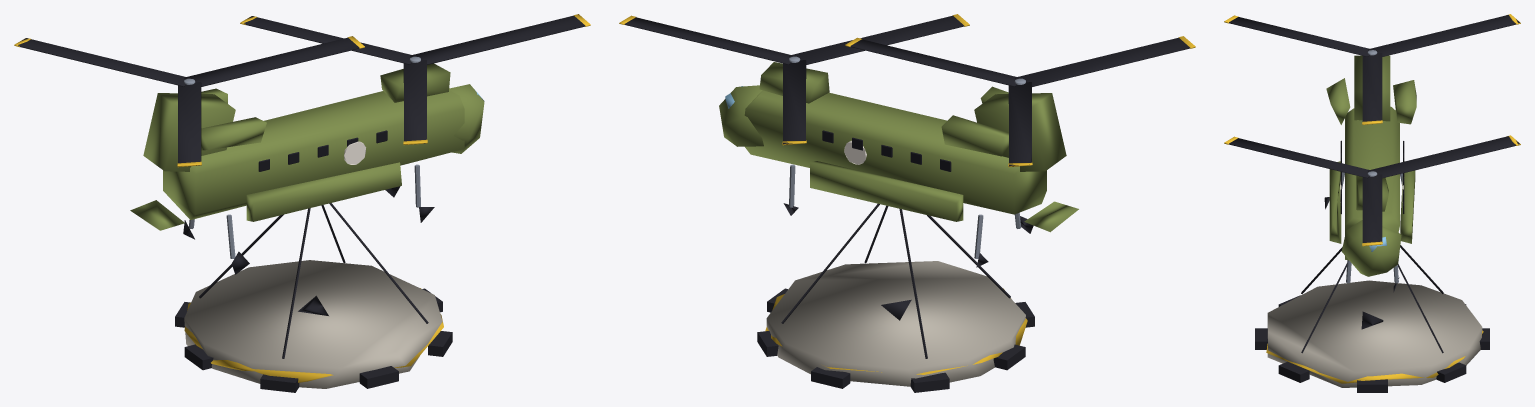
File: chinook.glb
The picture shows the model from 3 angles, left to right: view 1: azimuth 30°, elevation 25°; view 2: azimuth 150°, elevation 25°; view 3: azimuth 270°, elevation 25°; orthographic projection. The views are drawn at different scales.
Visible parts, largest first — view 1: chinook.001, rotorB.001 (×2); view 2: chinook.001, rotorB.001 (×2); view 3: chinook.001, rotorB.001 (×2).
Part boxes in pixels (left/top/right/bottom): chinook.001: left=130, top=63, right=484, bottom=392; rotorB.001 (×2): left=14, top=14, right=590, bottom=167; chinook.001: left=719, top=62, right=1078, bottom=392; rotorB.001 (×2): left=619, top=14, right=1195, bottom=167; chinook.001: left=1255, top=55, right=1489, bottom=392; rotorB.001 (×2): left=1224, top=14, right=1520, bottom=246.
Size of the model in its own units: 21.66 by 12.01 by 13.45.
Materials: 1 (1 with a texture image).
